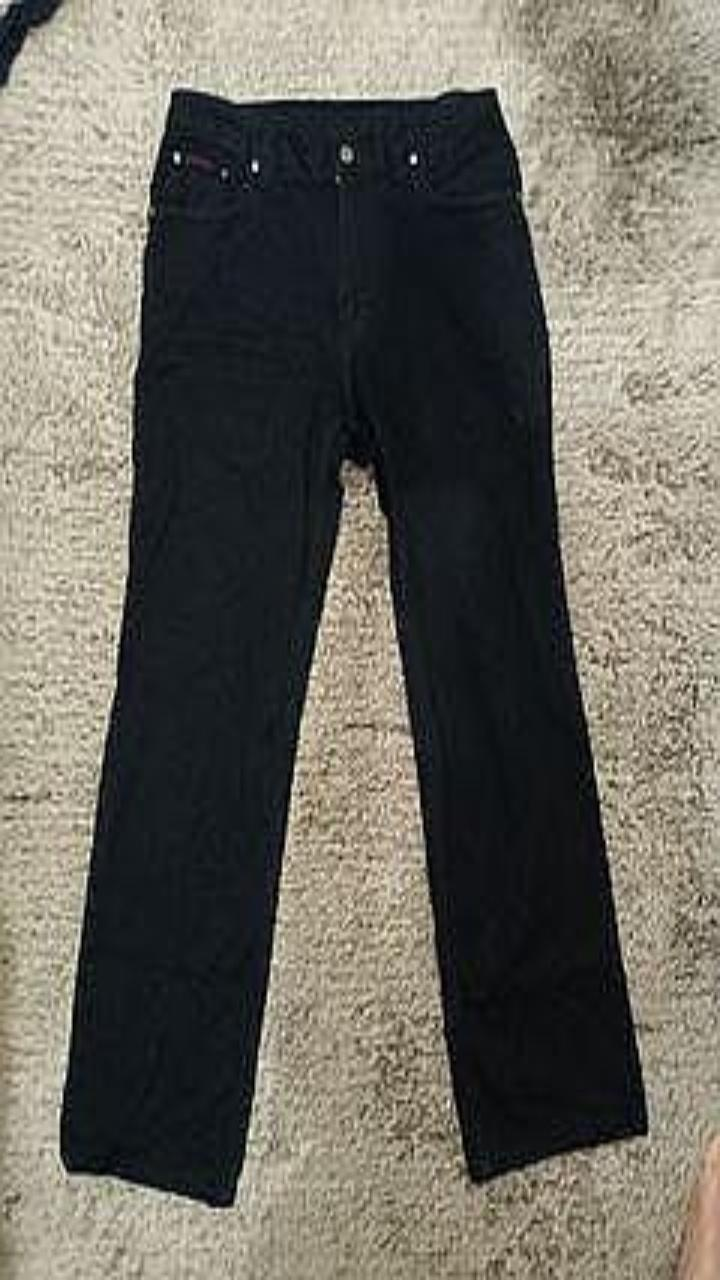Jeans: (61, 88, 647, 1205)
